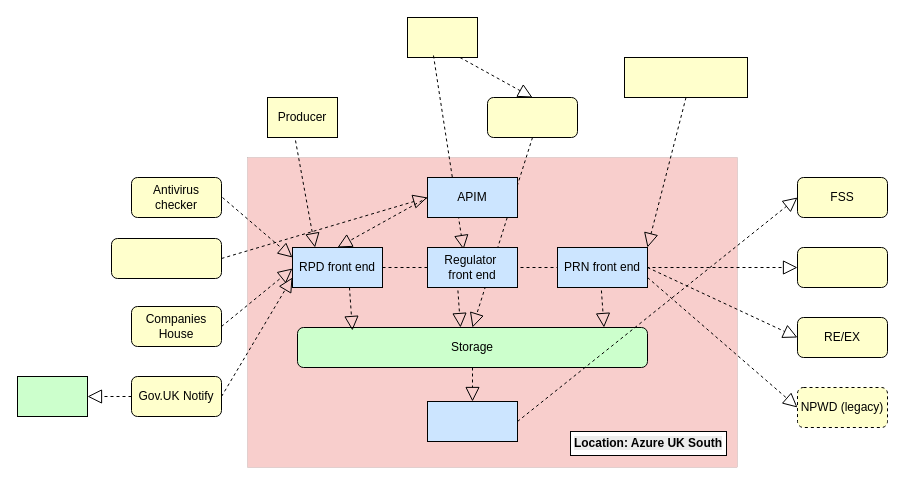
Some shapes in this 905 by 485 pixel diagram are drawn without their labels. The centre of each missing label's shape, as x and y in pixels:
"Email" goes at pixel 52 396.
"LAPS" goes at pixel 842 267.
"PayCal" goes at pixel 472 421.
"Postcode validation" goes at pixel 166 258.
"Power BI" goes at pixel 532 117.
"Regulator" goes at pixel 442 37.
"Reprocessor/Exporter" goes at pixel 686 77.
